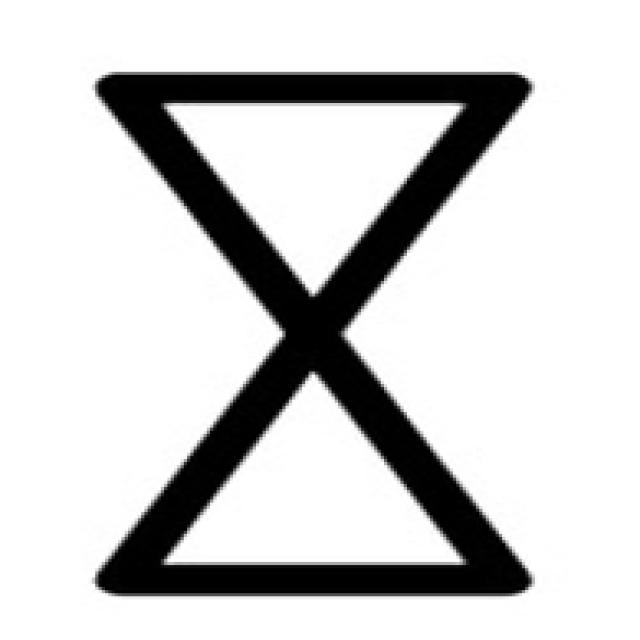Gate valve: (104, 338, 517, 582), (120, 87, 520, 328)
